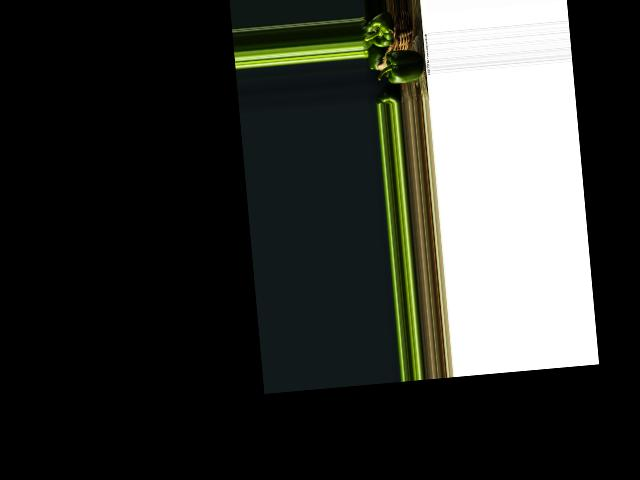bell_pepper: (375, 90, 397, 105)
